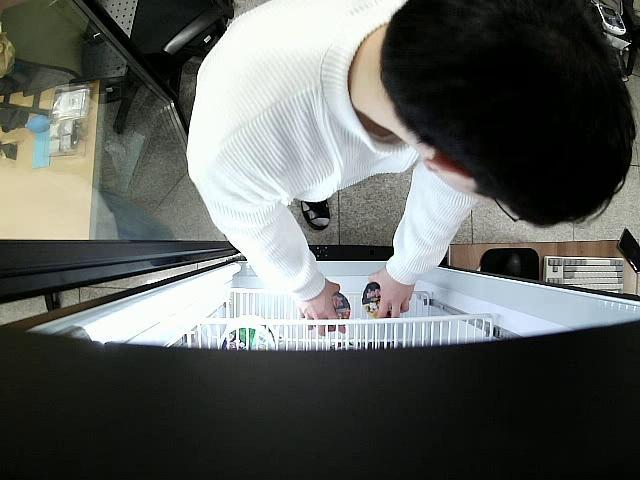08_buldak_S: (324, 290, 351, 331), (362, 282, 392, 318)
